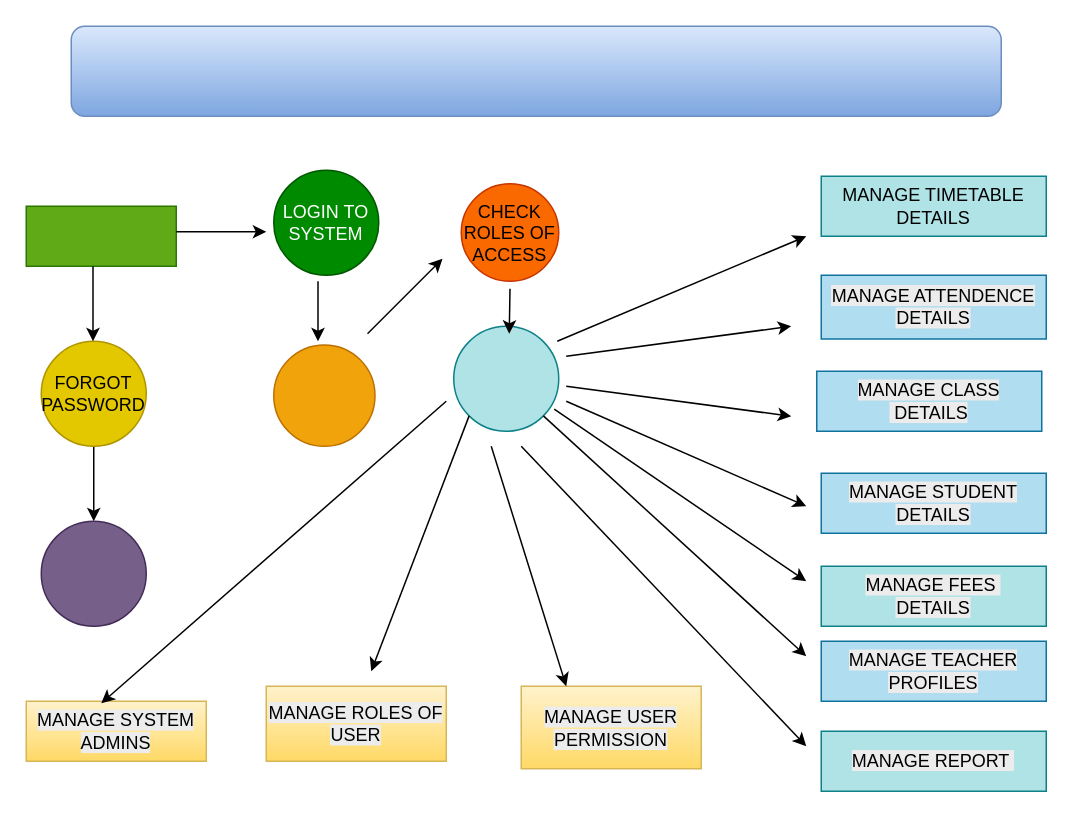
Some shapes in this 1073 by 819 pixel diagram are drawn without their labels. The centre of each missing label's shape, as x and y in pixels:
"ADMIN" belongs at point 100,235.
"CHECK CREDEN TIALS" belongs at point 323,395.
"MANAGE MODULES" belongs at point 505,378.
"SEND EMAIL TO USER" belongs at point 93,573.
"STUDENT INFORMATION SYSTEM" belongs at point 535,70.
